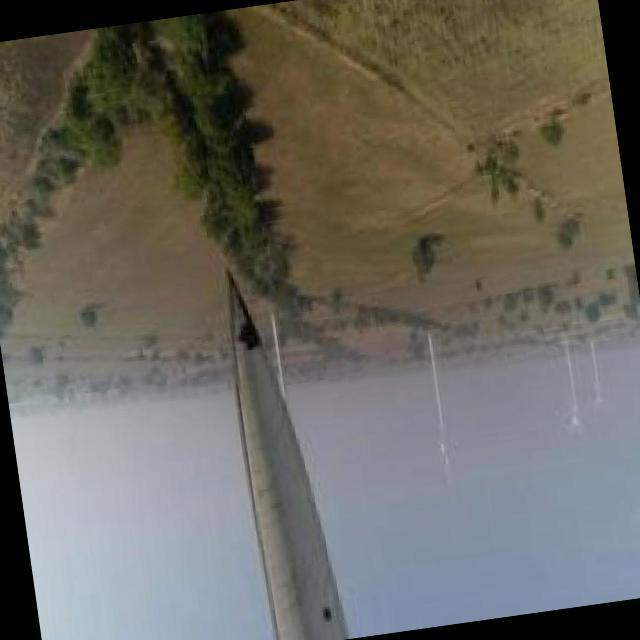Dirt: (225, 269, 349, 640)
Oil LEAKAGE: (225, 264, 264, 349)
Pin Hole: (320, 604, 337, 623)
